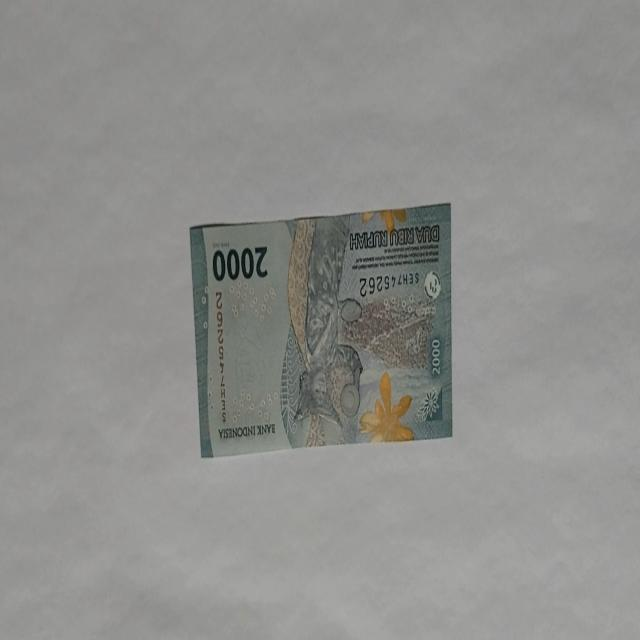dua ribu rupiah: (189, 201, 453, 459), (280, 213, 364, 447)
